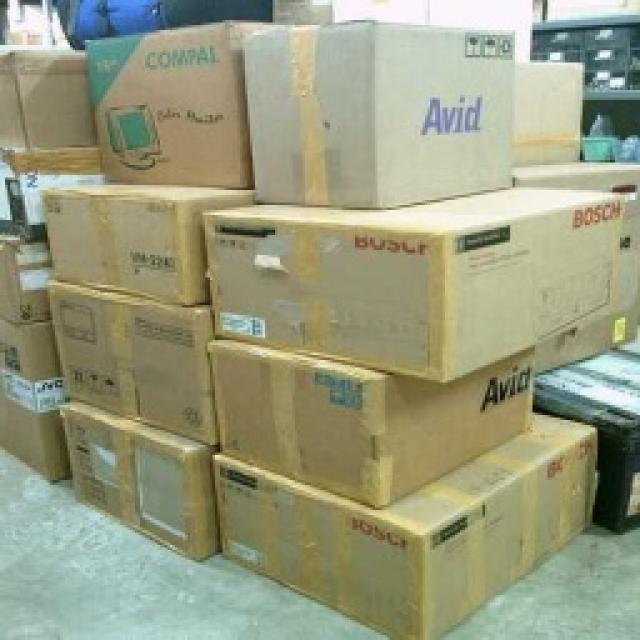box: (210, 184, 636, 363), (210, 434, 620, 618), (193, 331, 557, 500), (258, 16, 525, 203), (70, 39, 278, 192), (53, 268, 223, 442), (59, 398, 237, 564), (44, 177, 250, 311), (0, 310, 72, 485), (10, 49, 117, 156), (10, 147, 94, 222), (0, 235, 60, 330)
